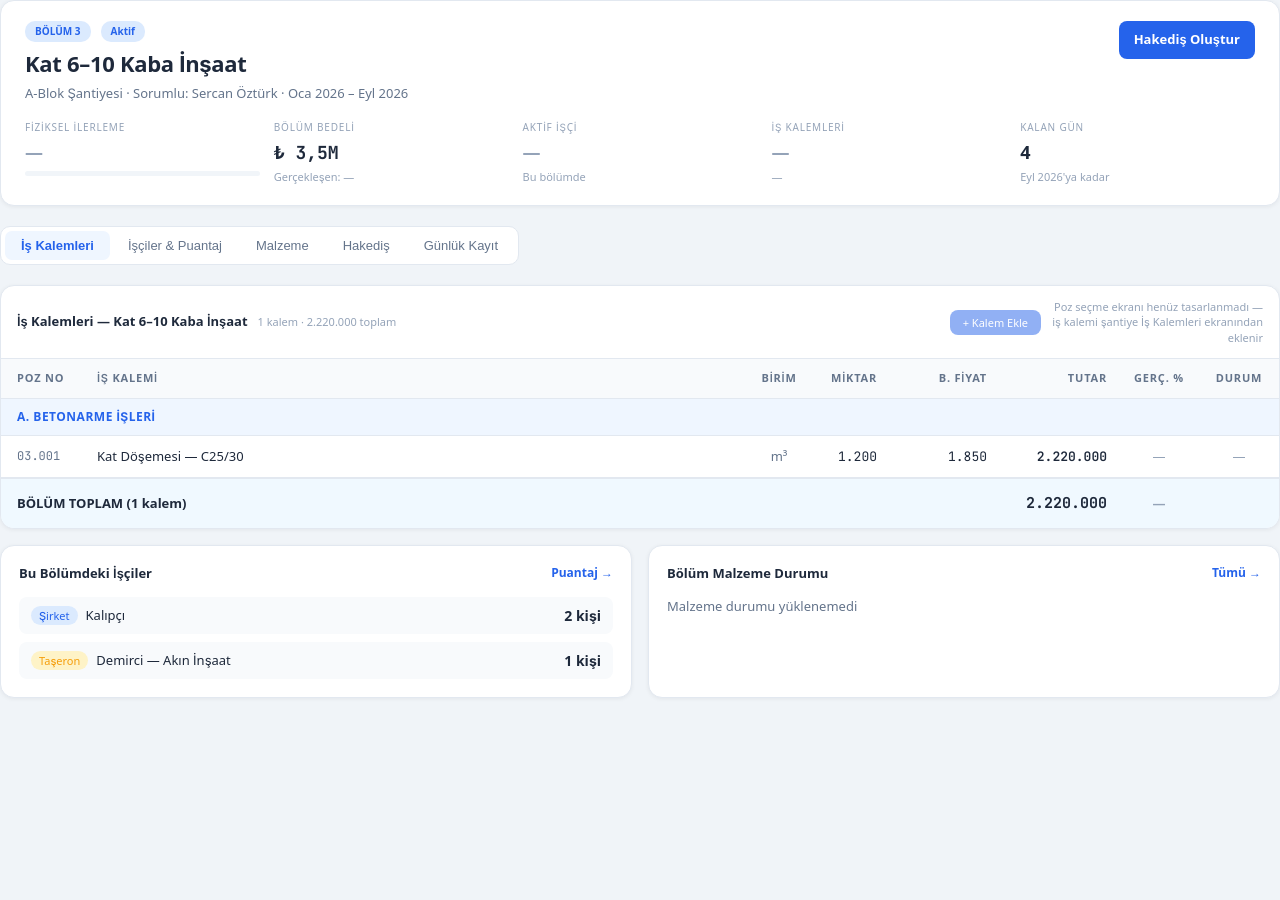
Scenario: SectionDetailView — İşçiler & Puantaj sekmesi (F-BLMPUAN) › sekme YER TUTUCU DEĞİL gerçek matris basar
Click the tab "İşçiler & Puantaj" at (175, 246), box 112,231 -> 238,260
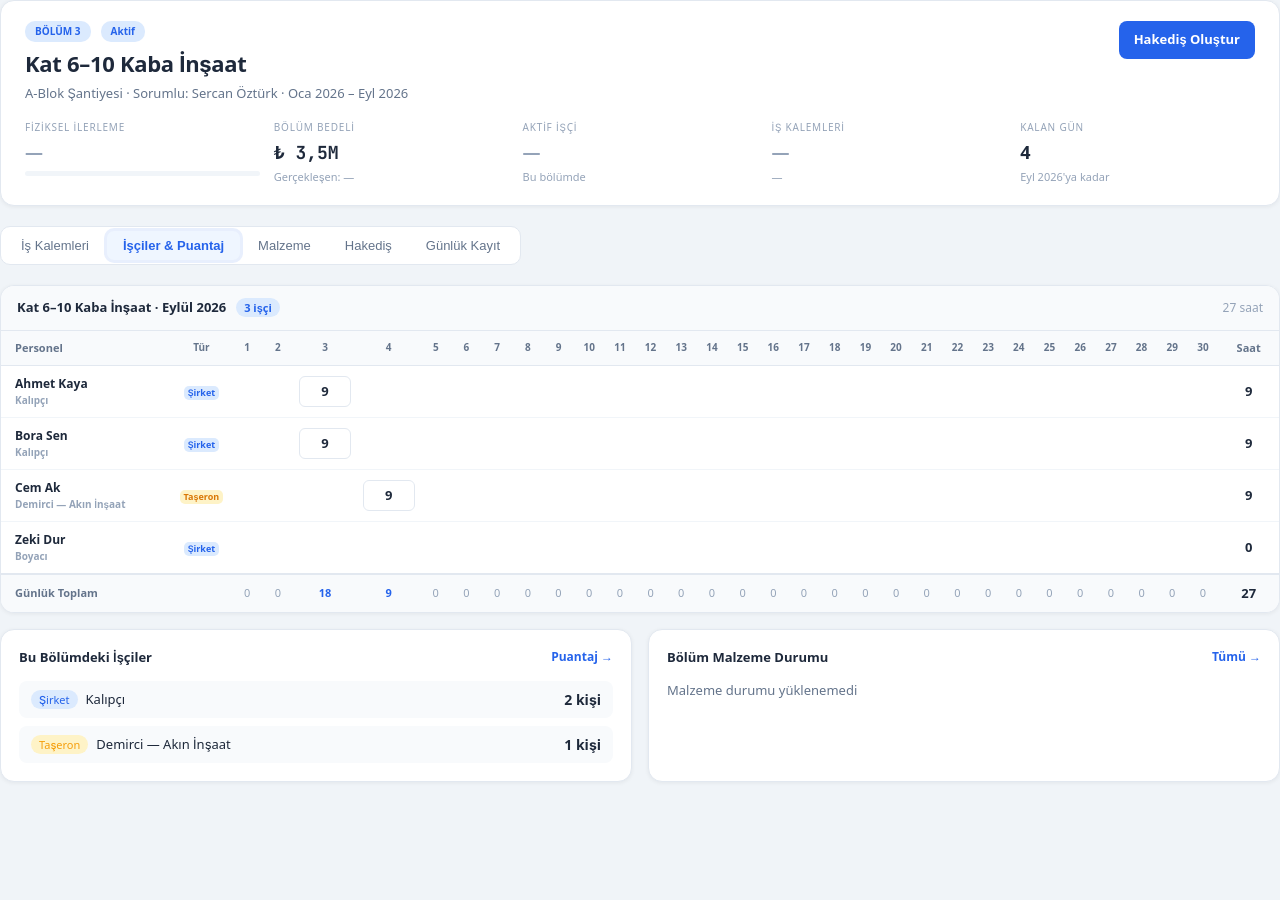
Expected: the element with test id "section-timesheet" is shown, 1,286 -> 1279,612
